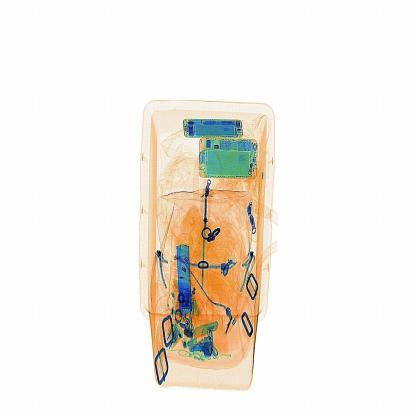pliers: (173, 240, 196, 320)
